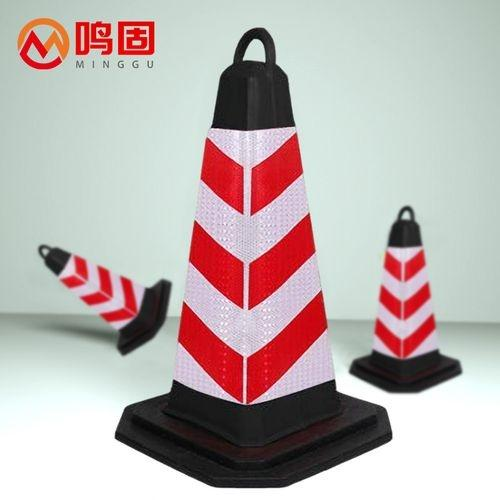cone_barrel: (135, 33, 361, 480), (352, 209, 458, 391), (36, 244, 169, 355)
